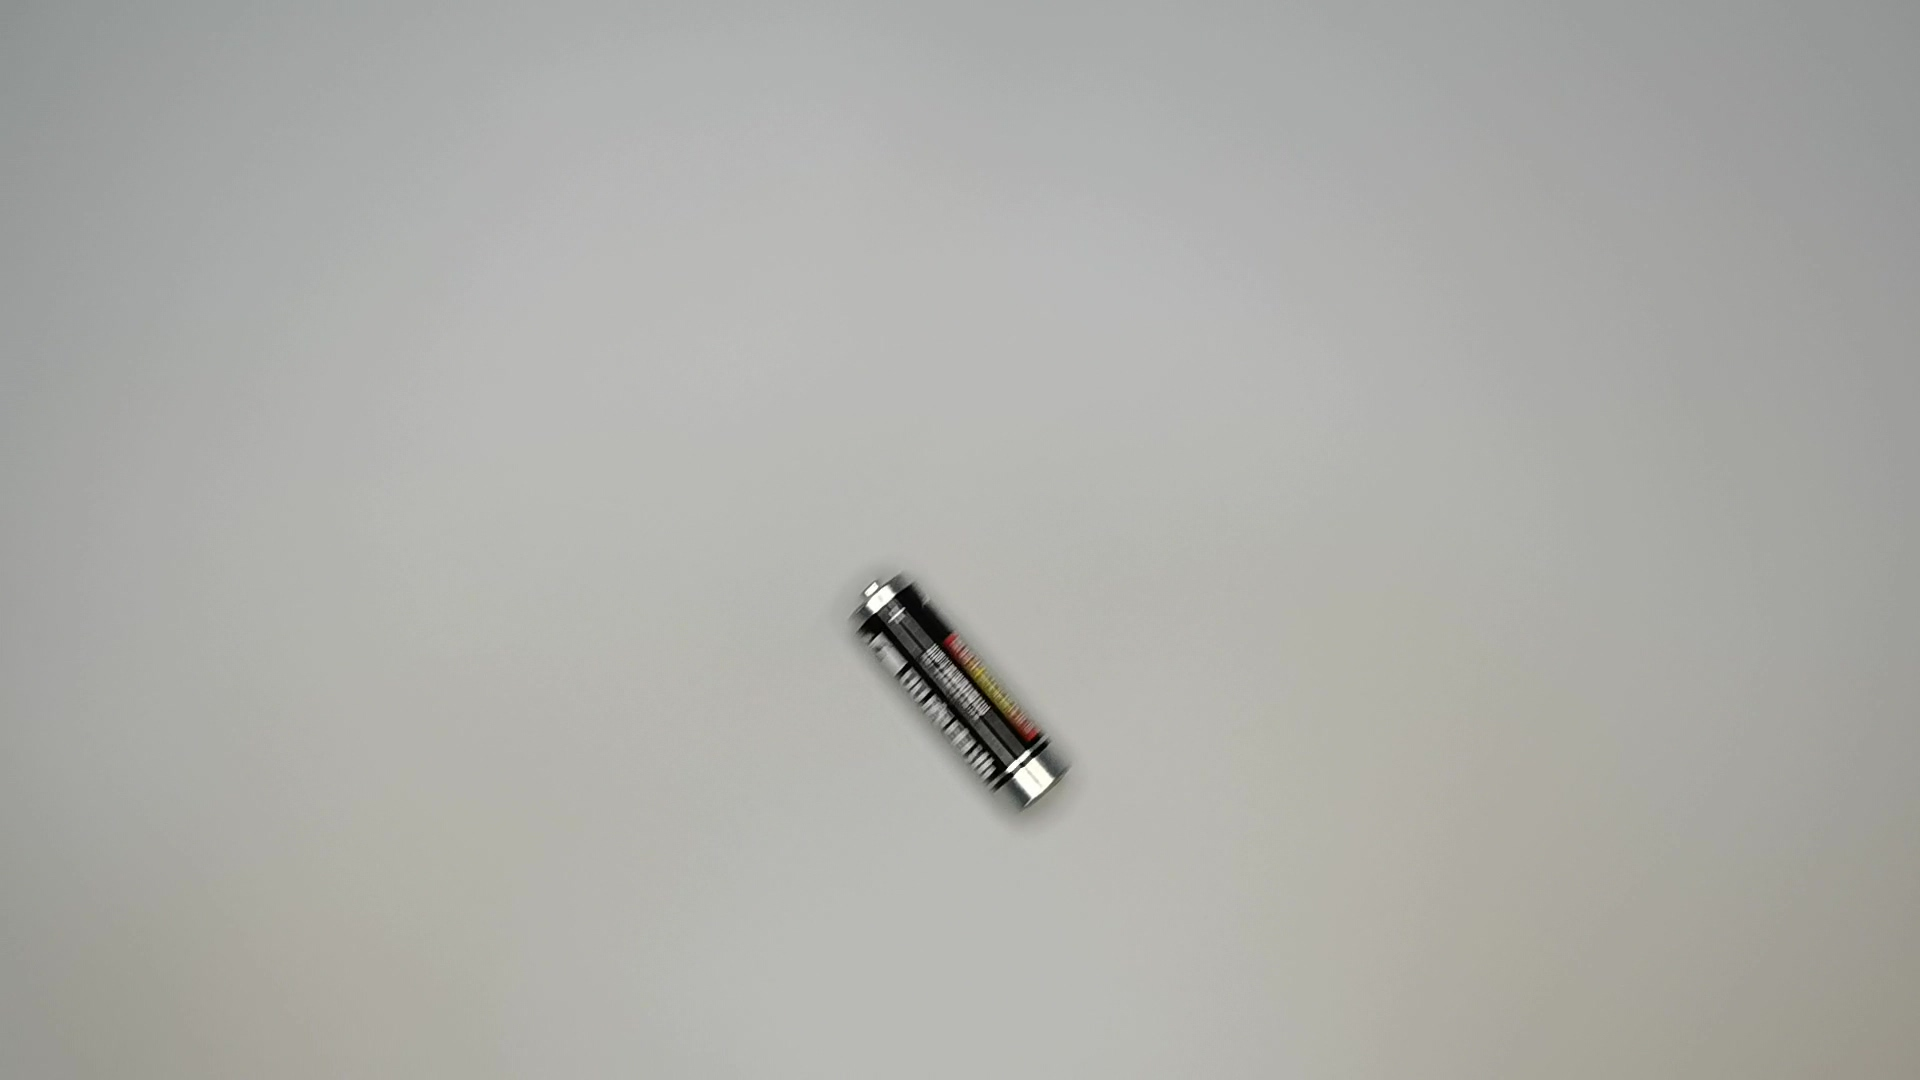battery: (841, 568, 1077, 820)
